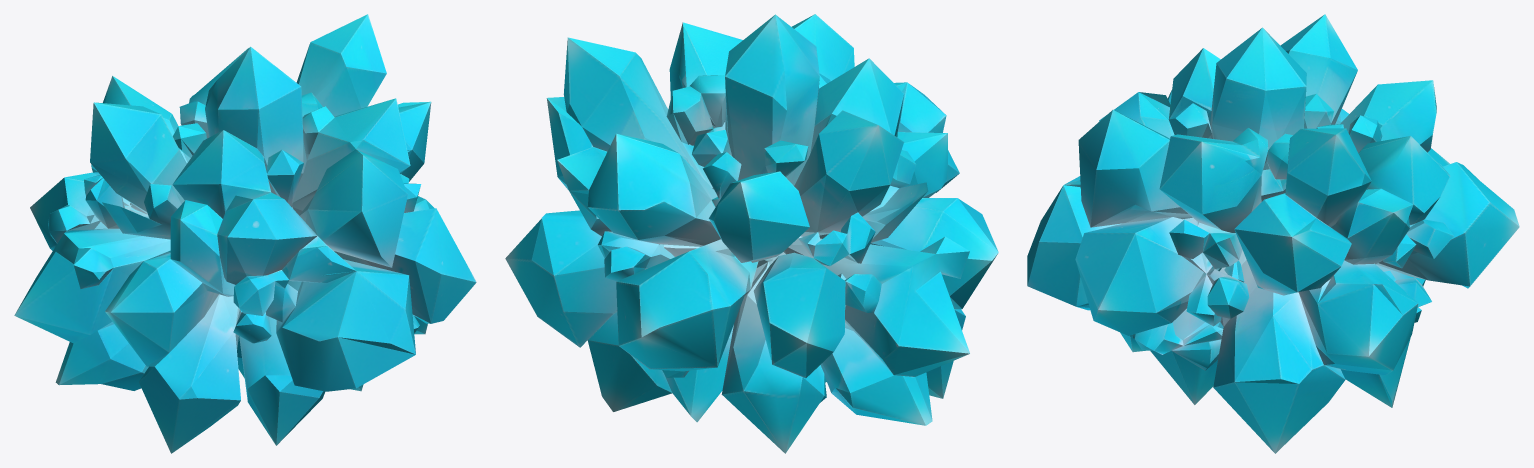
Rendered from crystal.glb.
The picture shows the model from 3 angles, left to right: view 1: azimuth 30°, elevation 25°; view 2: azimuth 150°, elevation 25°; view 3: azimuth 270°, elevation 25°; orthographic projection. The views are drawn at different scales.
Size of the model in its own units: 1.79 by 1.51 by 1.89.
Materials: 1 (1 with a texture image).
